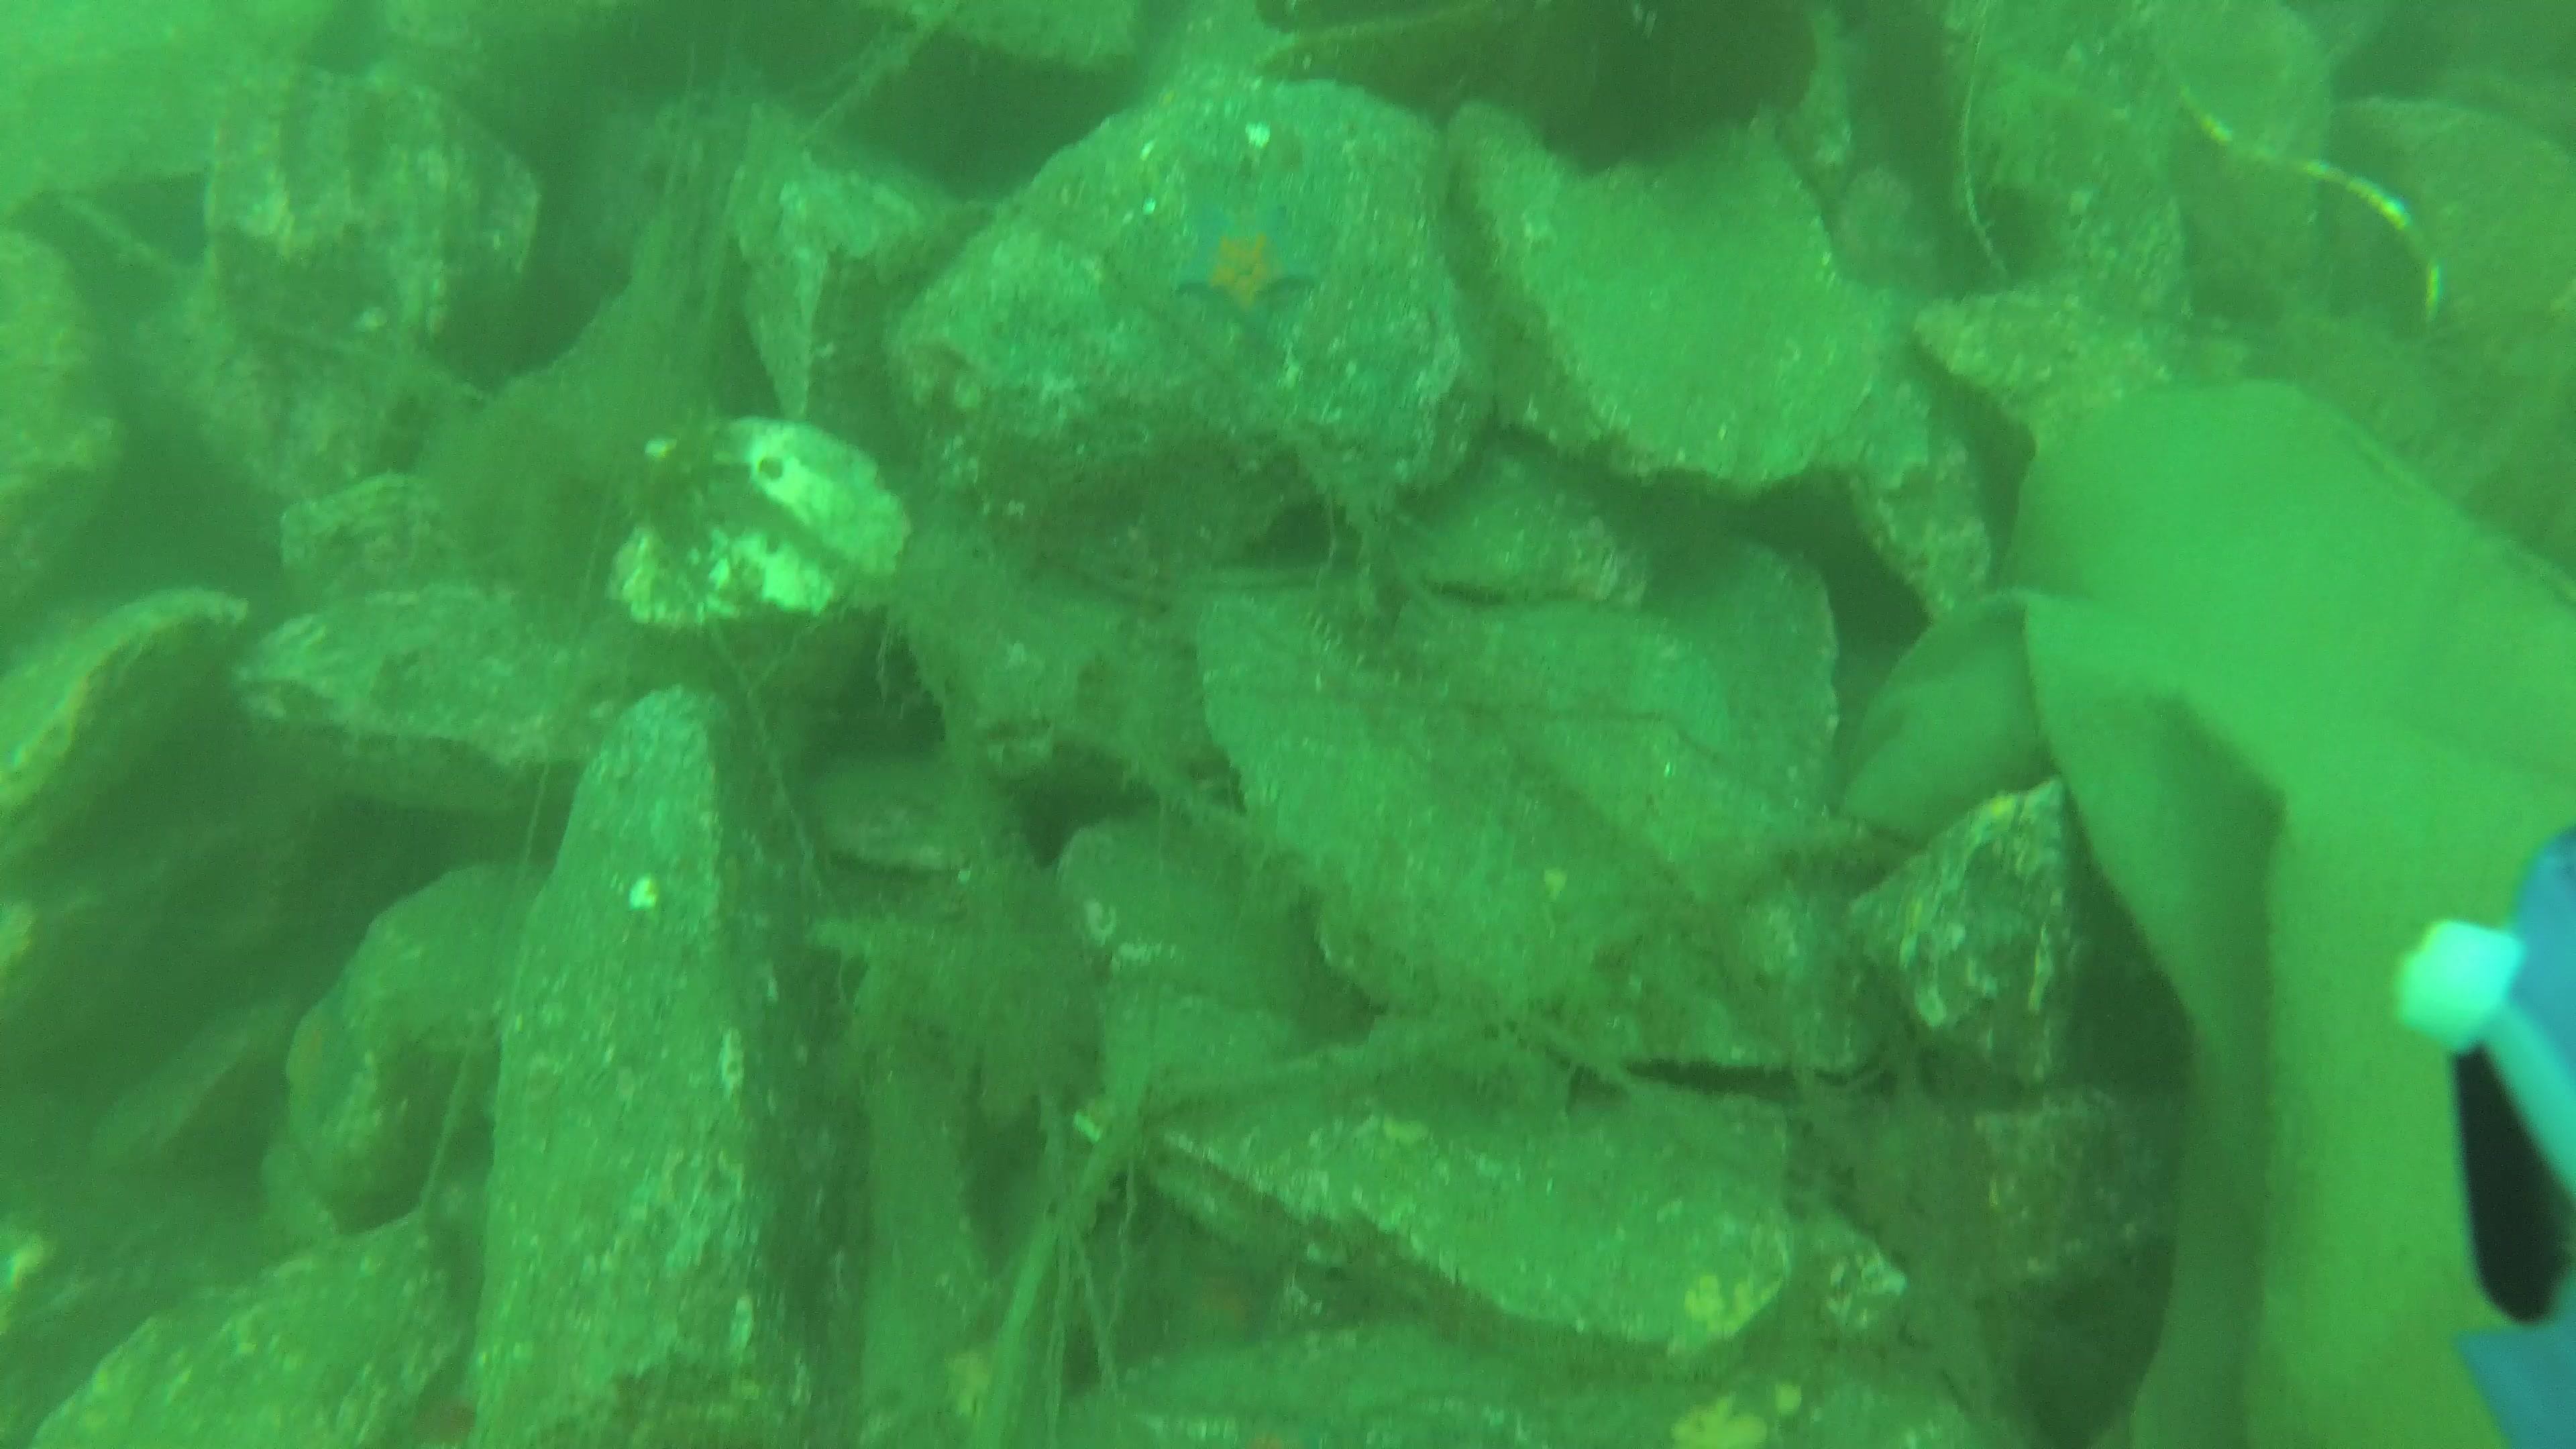starfish: (1166, 186, 1325, 345)
